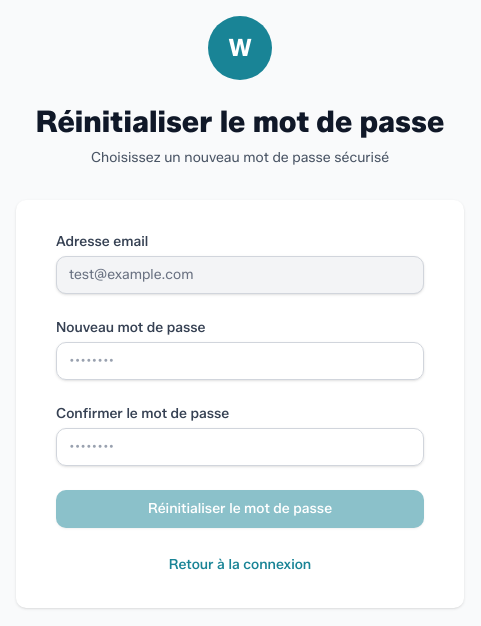
Scenario: ResetPasswordPage › enables submit button when all requirements are met
In the password field with test id "password-input": (240, 361) 56,342 -> 424,380, type "ValidPassword1"
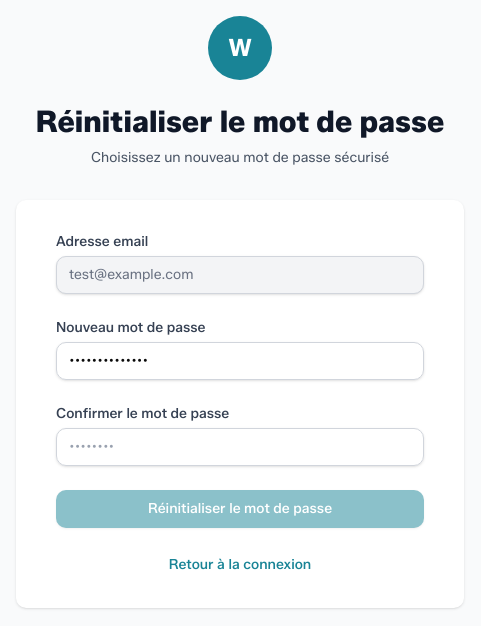
In the password field with test id "password-confirmation-input": (240, 447) 56,428 -> 424,466, type "ValidPassword1"
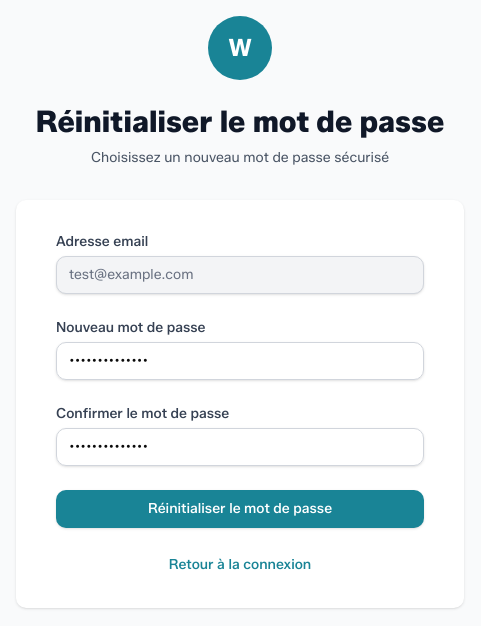
expect the button with test id "submit-button" is enabled: met, box 56,490 -> 424,528
